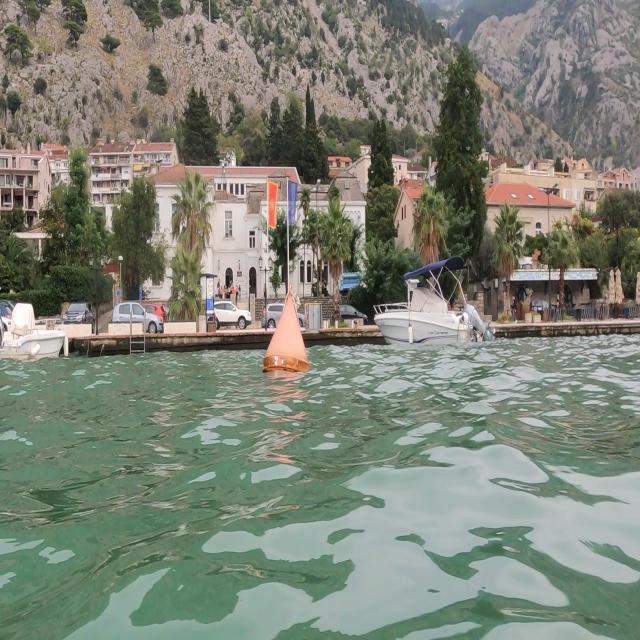boat: (372, 252, 494, 351), (0, 289, 78, 377)
buoy: (260, 283, 312, 382)
